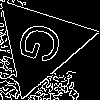G: (15, 18, 74, 70)
